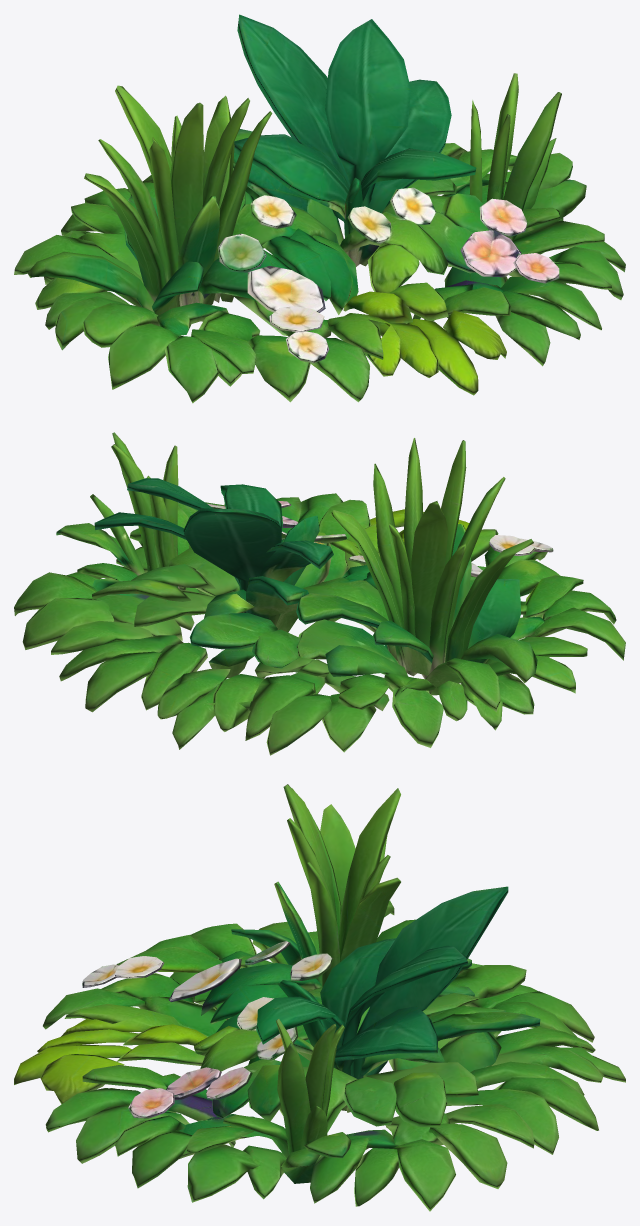
Rendered from s2_r3c6_mixed_meadow_patch.glb.
The picture shows the model from 3 angles, top to bottom: view 1: azimuth 30°, elevation 25°; view 2: azimuth 150°, elevation 25°; view 3: azimuth 270°, elevation 25°; orthographic projection. The views are drawn at different scales.
Size of the model in its own units: 1 by 0.4598 by 1.
1 material, 1 textured.
